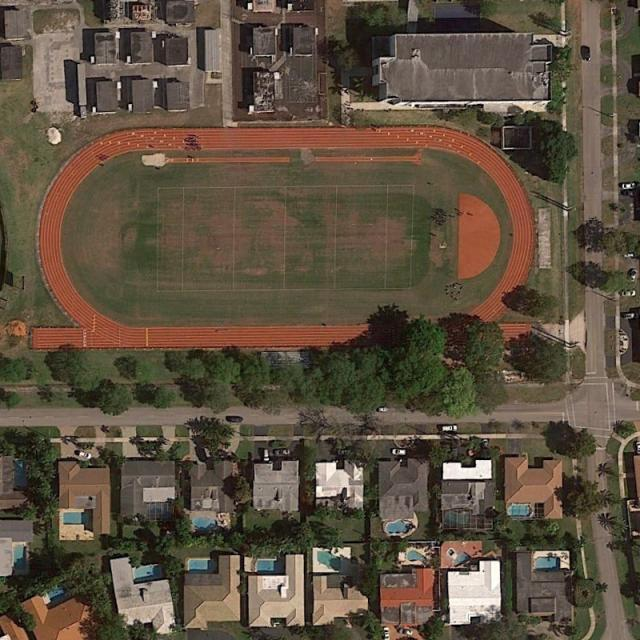vehicle: (440, 424, 458, 432), (621, 288, 635, 298), (76, 450, 92, 458), (391, 448, 406, 456), (262, 448, 270, 462), (630, 268, 638, 282), (338, 448, 352, 456), (398, 628, 413, 635), (229, 415, 243, 422), (585, 46, 591, 62), (278, 448, 290, 455), (622, 182, 634, 189), (482, 438, 489, 450), (384, 626, 390, 640), (625, 312, 638, 318), (634, 440, 640, 450), (378, 406, 386, 411)
